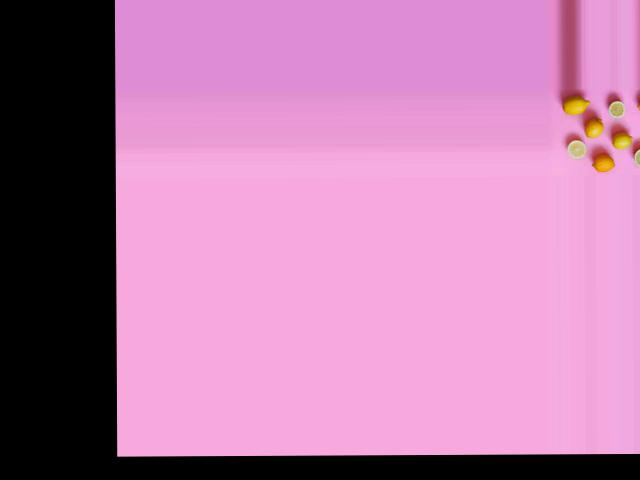lemon: (634, 94, 640, 112)
